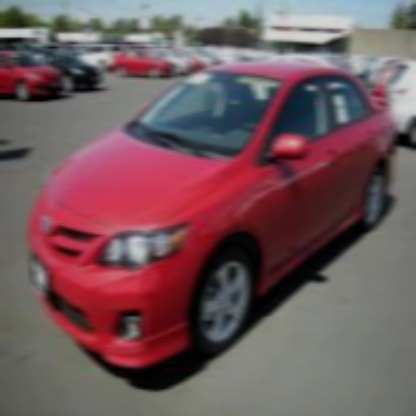Vehicle: (24, 60, 403, 388)
